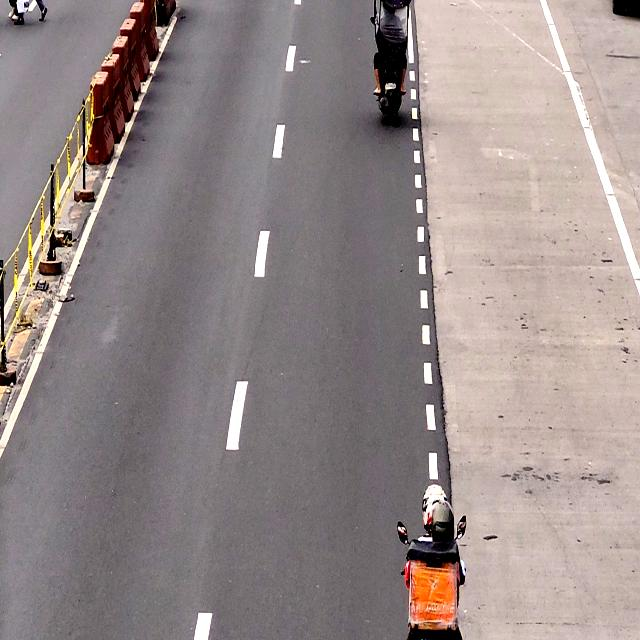Motorcycle: (398, 483, 464, 640), (372, 0, 410, 120)
